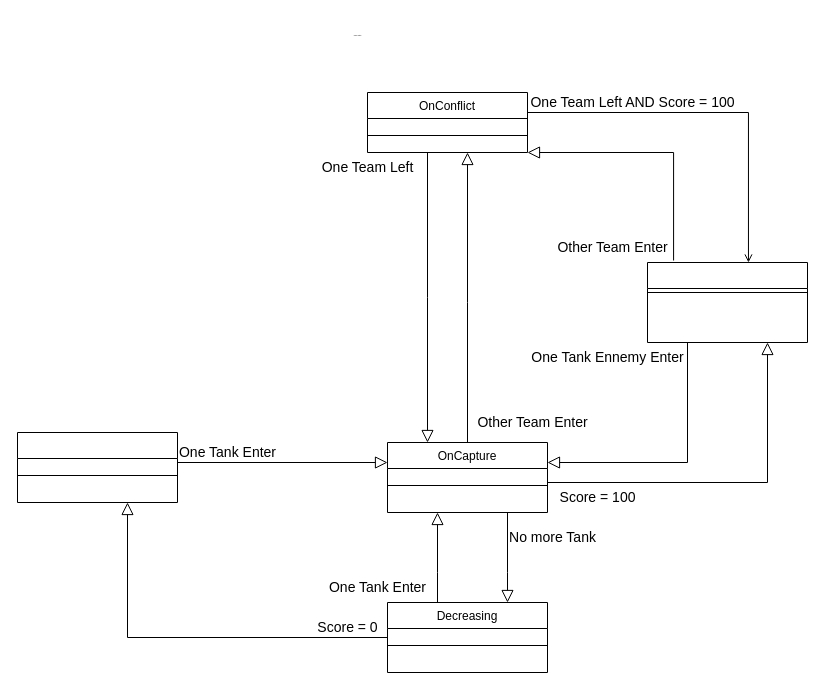
Image size: 825x690. Some labels were removed from this diagram. Here are the shapes that lost their labels. From the top down, the box of each, then its label:
(646, 262, 808, 342): Captured
(16, 432, 178, 502): Free
